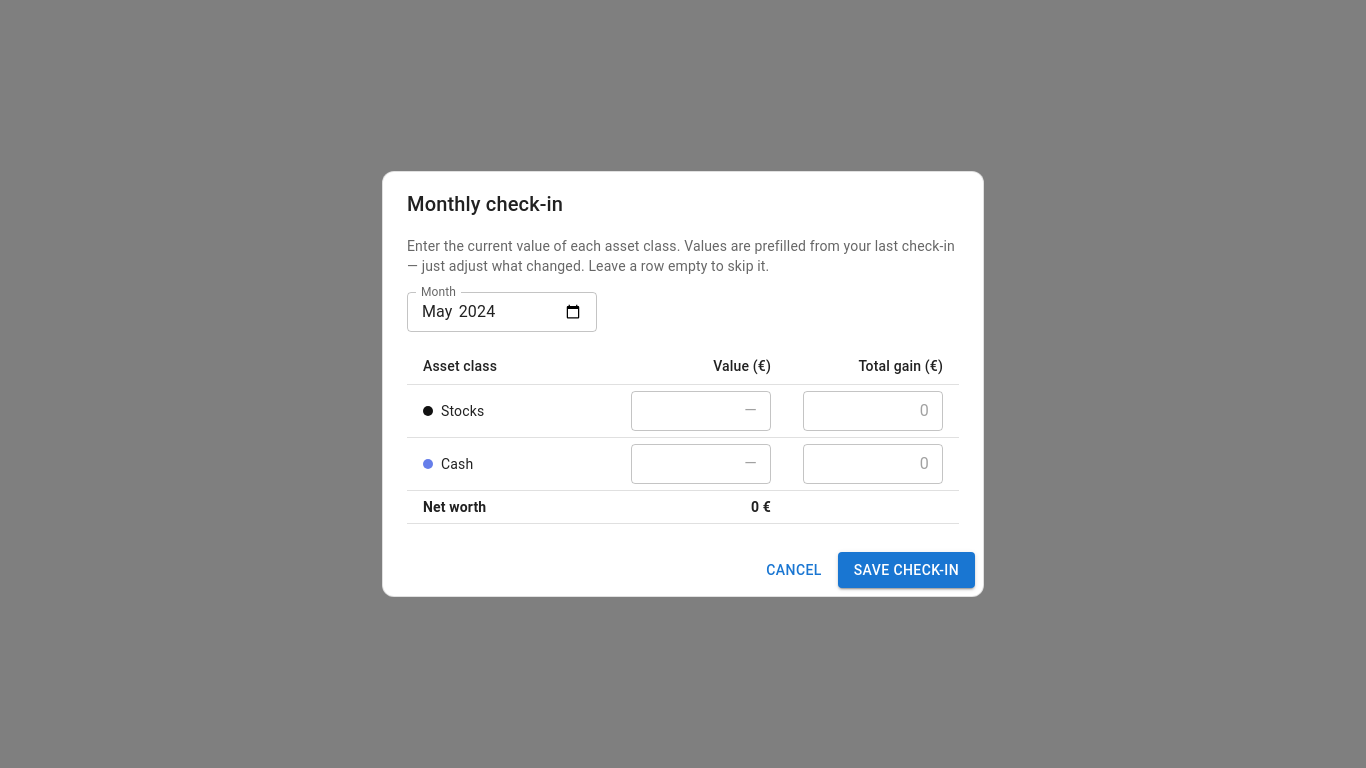
Test case: computes the net worth total live as values are typed
In the field with placeholder "—" next to "Stocks": [701, 411] box 631,391 -> 771,431, type "1000"
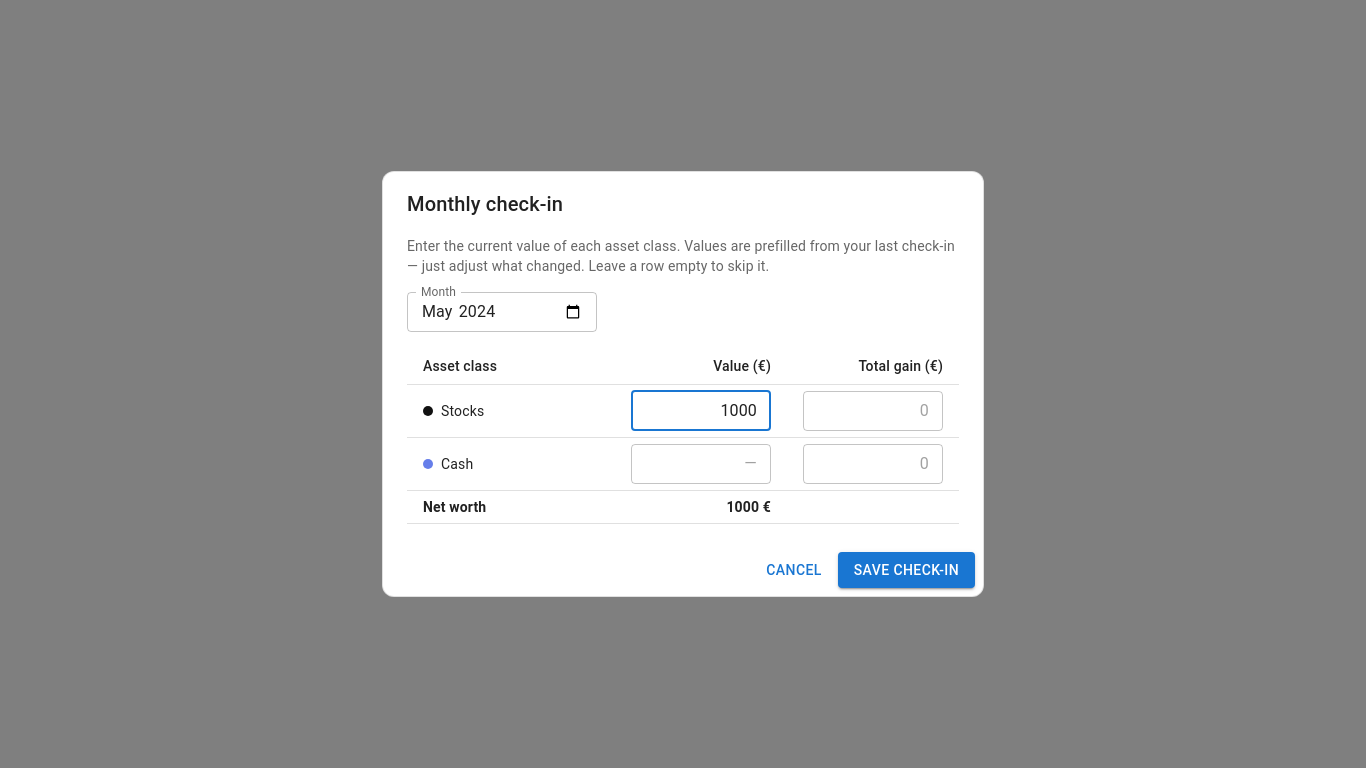
In the field with placeholder "—": [701, 464] box 631,444 -> 771,484, type "500"
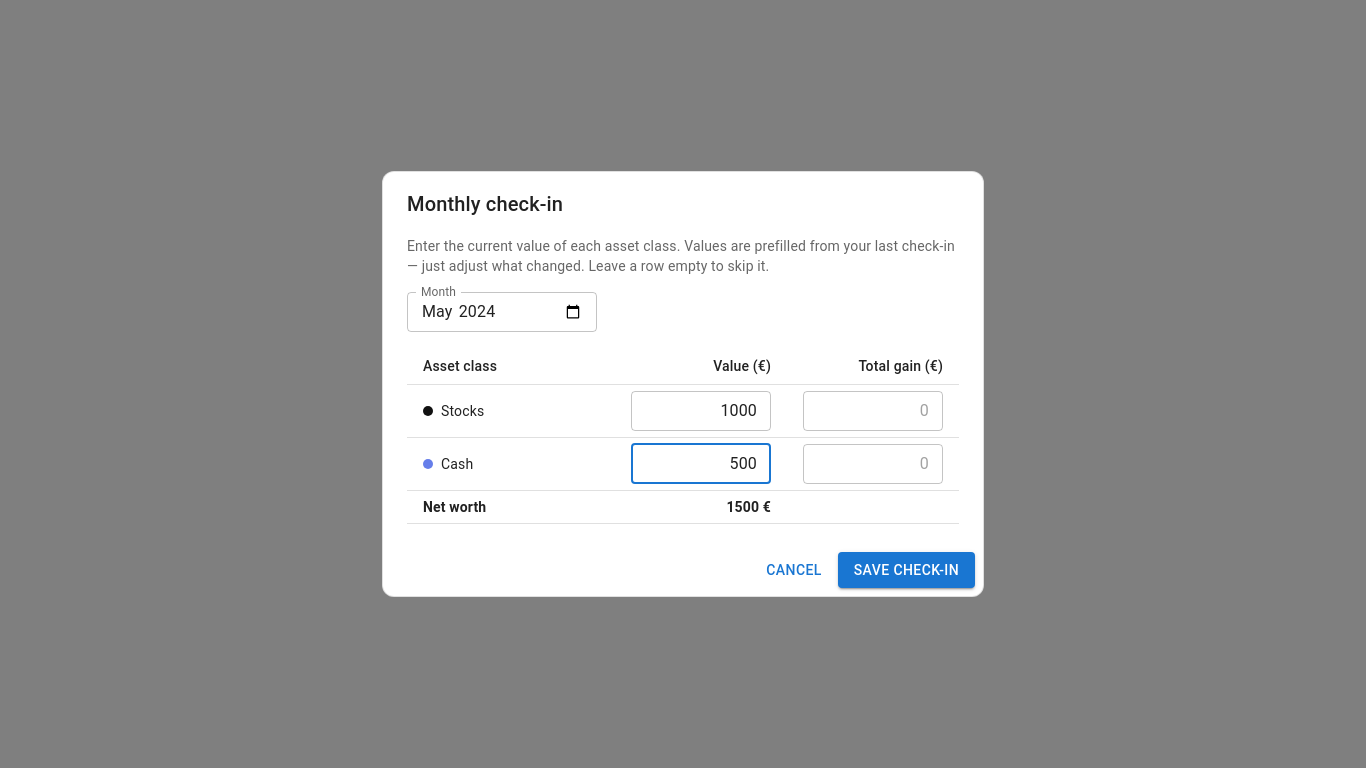
Now the text "1500 €" is shown, box 615,490 -> 787,523
